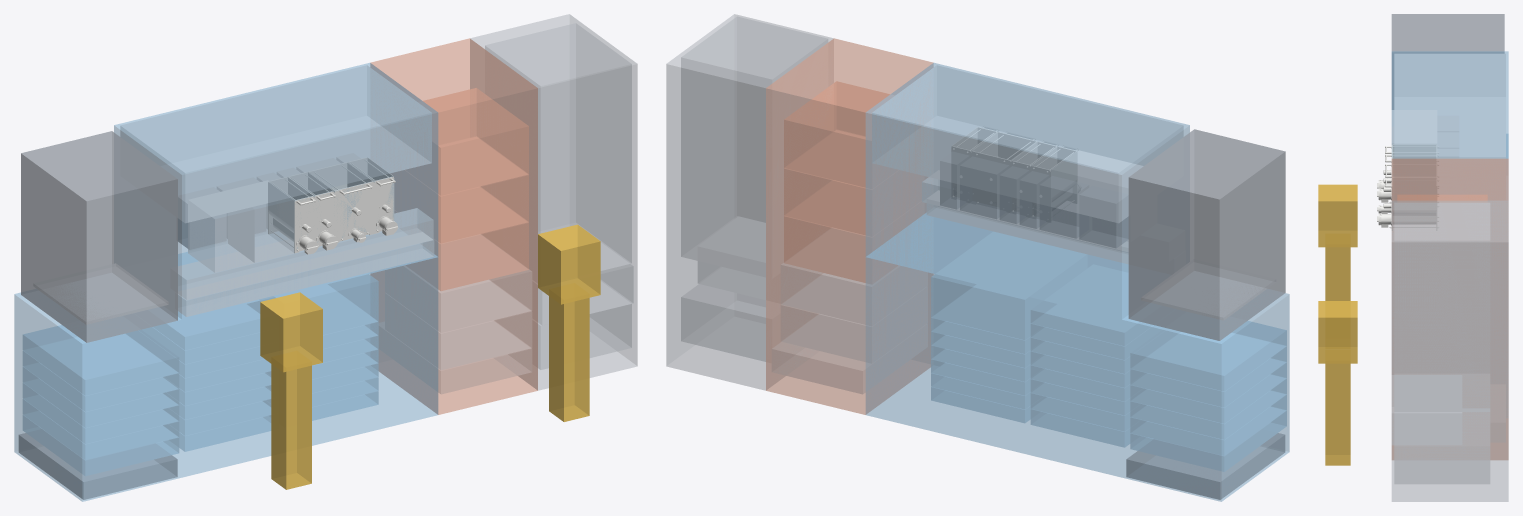
Rendered from hat_v1.glb.
3 views of the same model, side by side, from view 1: azimuth 30°, elevation 25°; view 2: azimuth 150°, elevation 25°; view 3: azimuth 270°, elevation 25° (orthographic). The views are drawn at different scales.
Visible parts, largest first — view 1: B_KABIN, TOPPING_KABIN, D_KABIN, E_KABIN, TOPPING_SOG, PRESS, E_SARJOR, FIRIN_3, CEK_K1_hamur_6, TOPPING_BAS, B_SOGUTMA, ROBOT_2 (+39 smaller); view 2: B_KABIN, TOPPING_KABIN, D_KABIN, E_KABIN, TOPPING_SOG, PRESS, E_SARJOR, FIRIN_3, CEK_K1_hamur_6, B_SOGUTMA, E_MEK, PRESS_PLAKA (+38 smaller); view 3: E_KABIN, E_SARJOR, TOPPING_KABIN, TOPPING_SOG, D_KABIN, PRESS, E_MEK, ROBOT_2, ROBOT_1_KOL, ROBOT_2_KOL, KASET_SUCUK, E_AGZ (+7 smaller).
Part boxes in pixels (x1,y1,x2,y2): B_KABIN: (14, 252, 438, 501); TOPPING_KABIN: (114, 63, 438, 319); D_KABIN: (370, 38, 537, 414); E_KABIN: (470, 14, 637, 390); TOPPING_SOG: (120, 65, 431, 222); PRESS: (21, 131, 177, 342); E_SARJOR: (485, 23, 631, 270); FIRIN_3: (423, 88, 528, 195); CEK_K1_hamur_6: (23, 325, 178, 395); TOPPING_BAS: (178, 208, 433, 299); B_SOGUTMA: (18, 429, 177, 499); ROBOT_2: (549, 283, 589, 421); B_KABIN: (865, 213, 1289, 501); TOPPING_KABIN: (865, 63, 1189, 319); D_KABIN: (766, 38, 933, 414); E_KABIN: (666, 14, 833, 390); TOPPING_SOG: (872, 65, 1183, 222); PRESS: (1128, 129, 1285, 340); E_SARJOR: (681, 16, 827, 277); FIRIN_3: (784, 81, 889, 187); CEK_K1_hamur_6: (1130, 321, 1286, 391); B_SOGUTMA: (1126, 429, 1285, 499); E_MEK: (681, 284, 765, 361); PRESS_PLAKA: (1141, 259, 1275, 320); E_KABIN: (1391, 200, 1508, 501); E_SARJOR: (1394, 203, 1489, 411); TOPPING_KABIN: (1391, 51, 1508, 200); TOPPING_SOG: (1394, 54, 1505, 158); D_KABIN: (1391, 158, 1508, 459); PRESS: (1391, 14, 1504, 109); E_MEK: (1394, 412, 1489, 483); ROBOT_2: (1325, 363, 1350, 465); ROBOT_1_KOL: (1318, 184, 1357, 247); ROBOT_2_KOL: (1318, 301, 1357, 363); KASET_SUCUK: (1377, 178, 1438, 230); E_AGZ: (1392, 375, 1461, 444).
Bounding box in the file's own units: 3.9 × 2.03 × 1.35.
